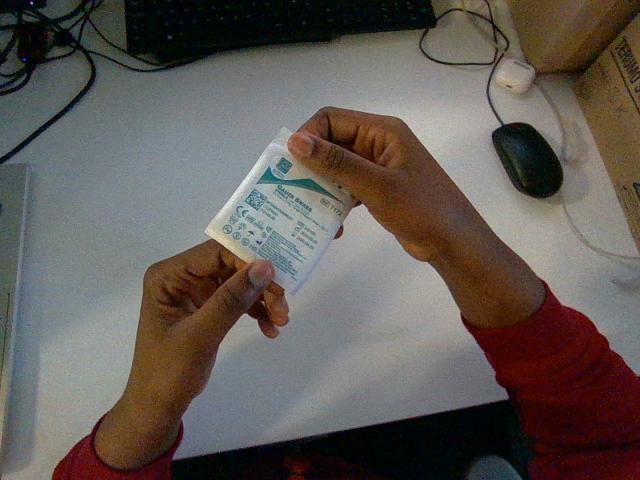gauze: (206, 128, 354, 293)
